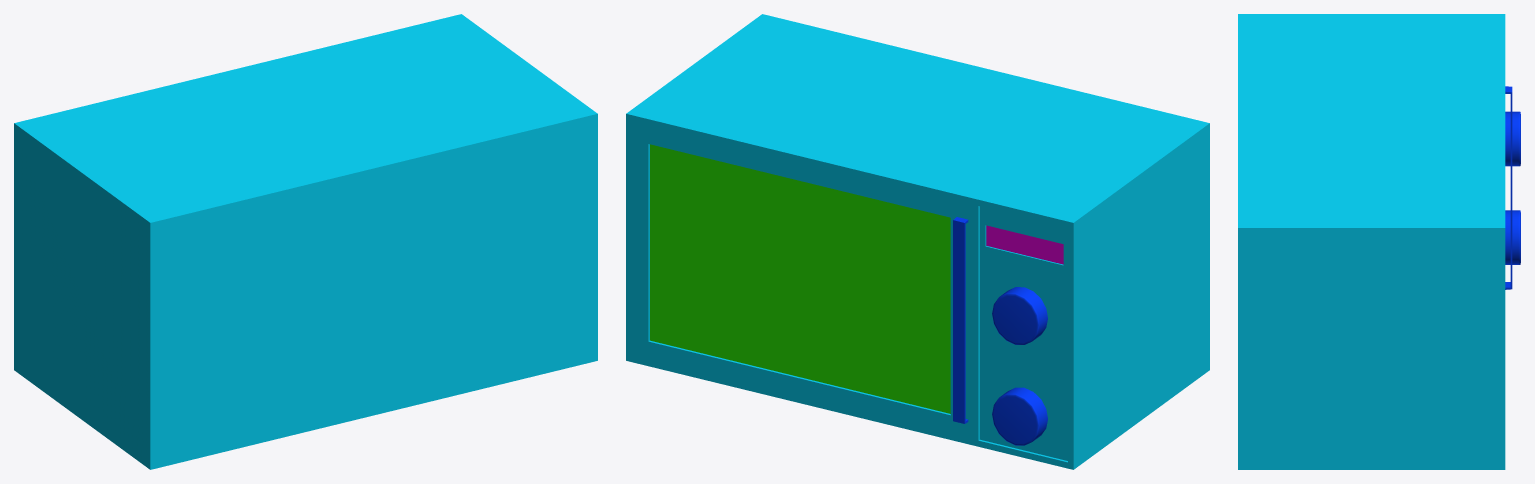
Rendered from Microondas.FBX.
3 views of the same model, side by side, from view 1: azimuth 30°, elevation 25°; view 2: azimuth 150°, elevation 25°; view 3: azimuth 270°, elevation 25° (orthographic). The views are drawn at different scales.
Parts seen in each view (by area): view 1: Microwave; view 2: Microwave; view 3: Microwave.
Part boxes in pixels (x1=…): Microwave: x1=14, y1=14, x2=597, y2=469; Microwave: x1=626, y1=14, x2=1209, y2=469; Microwave: x1=1238, y1=14, x2=1520, y2=469.
Size of the model in its own units: 1.06 by 0.5567 by 0.5894.
